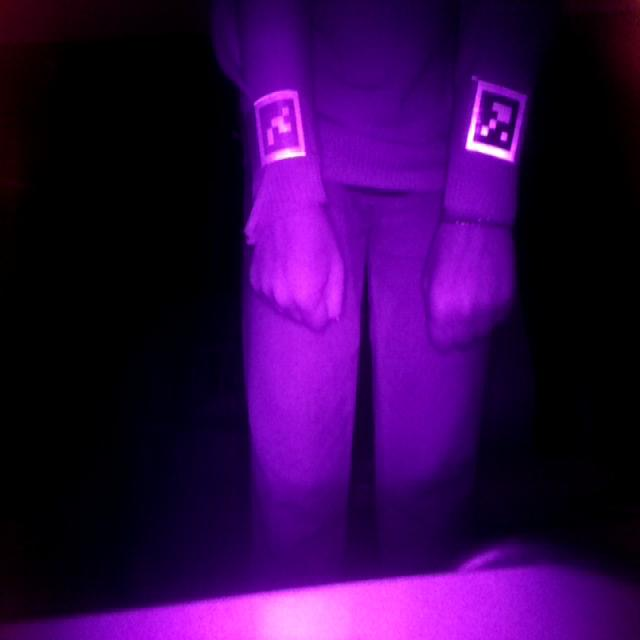Apriltags: (465, 79, 531, 166), (254, 86, 308, 166)
